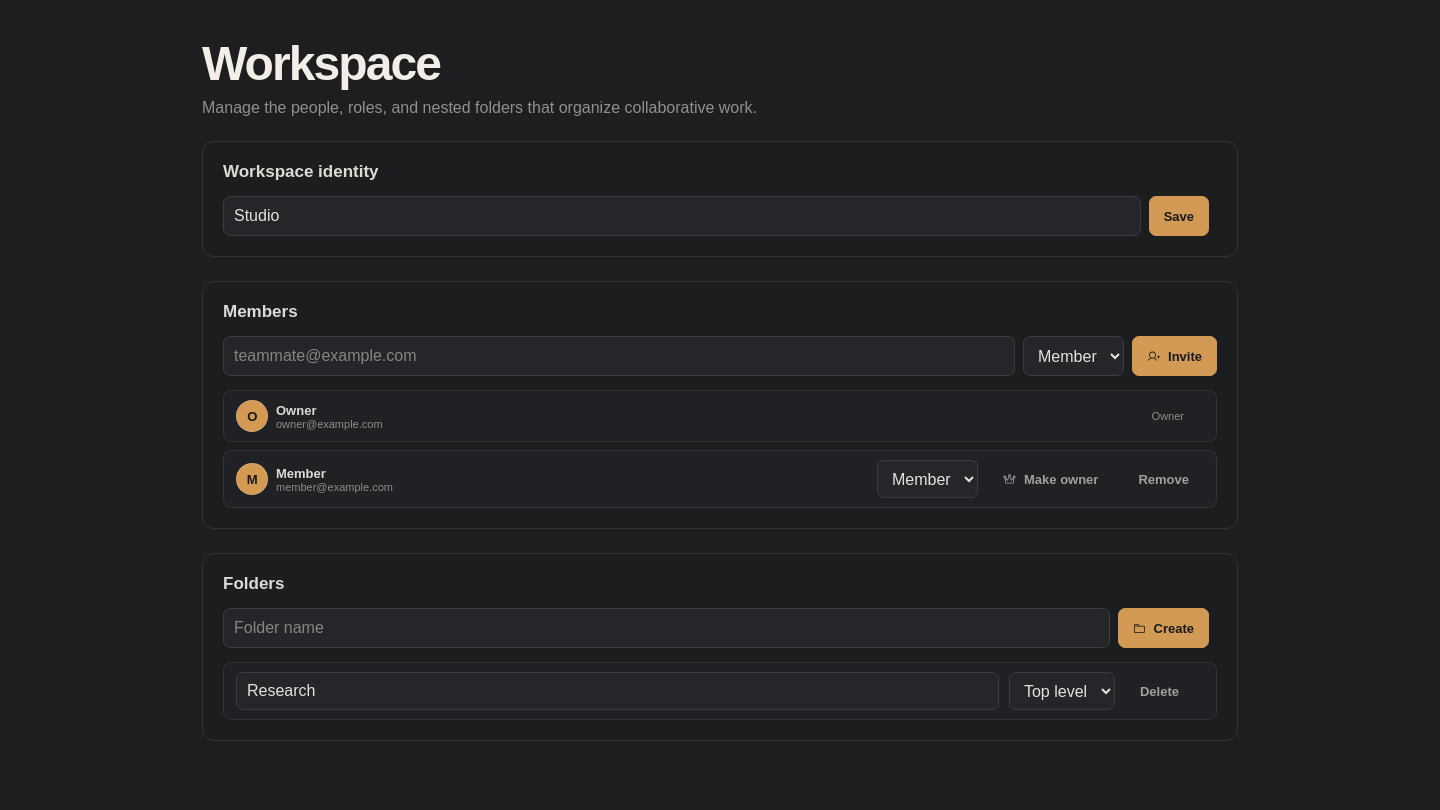
Test case: platform dashboard views › allows an ownership transfer confirmation to be cancelled
Check: the field showing "Studio" is shown, box [223,196,1141,236]
Step 1. Click the button "Make owner" → (1051, 479), box [988,459,1113,499]
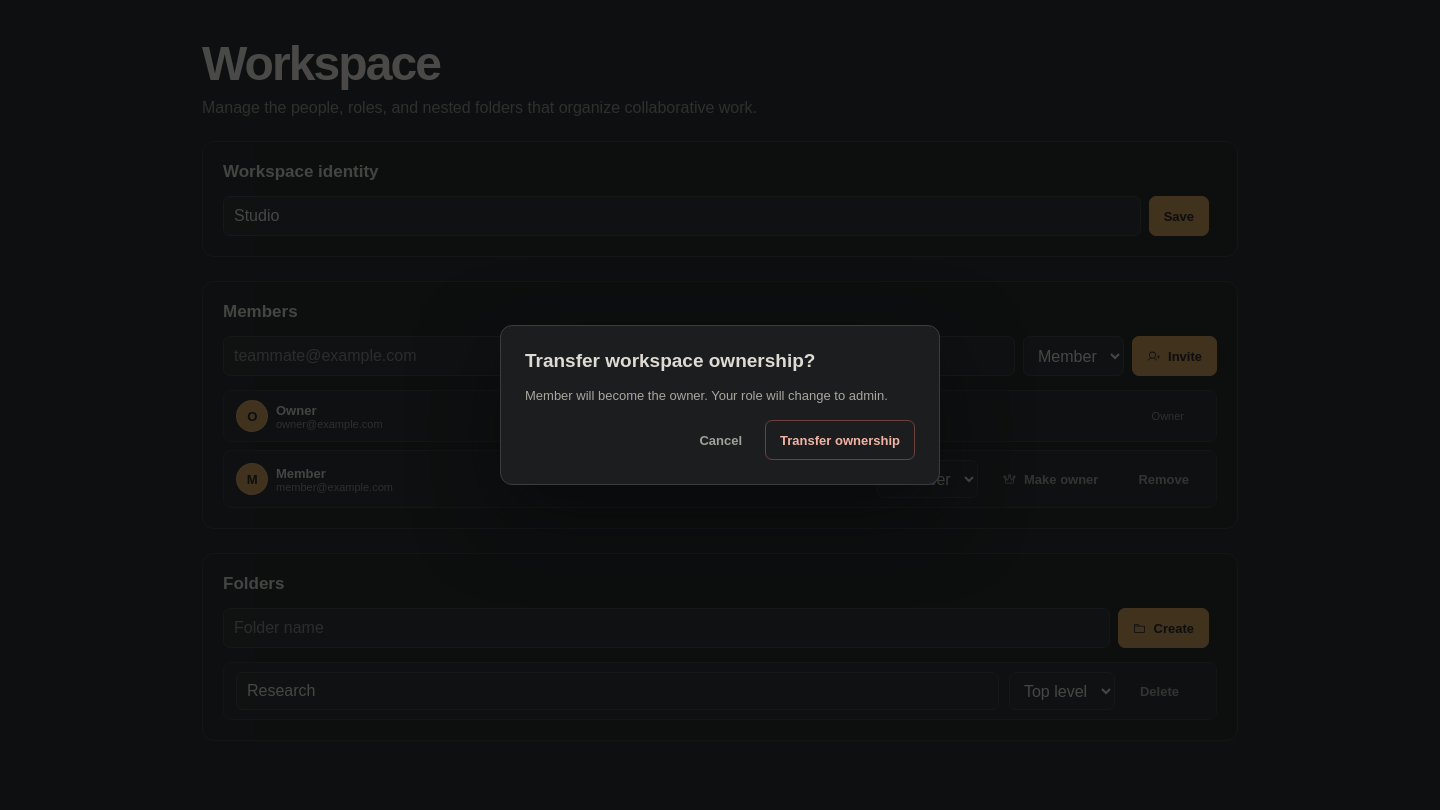
Step 2. Click the button "Cancel" → (721, 440), box [684,420,757,460]
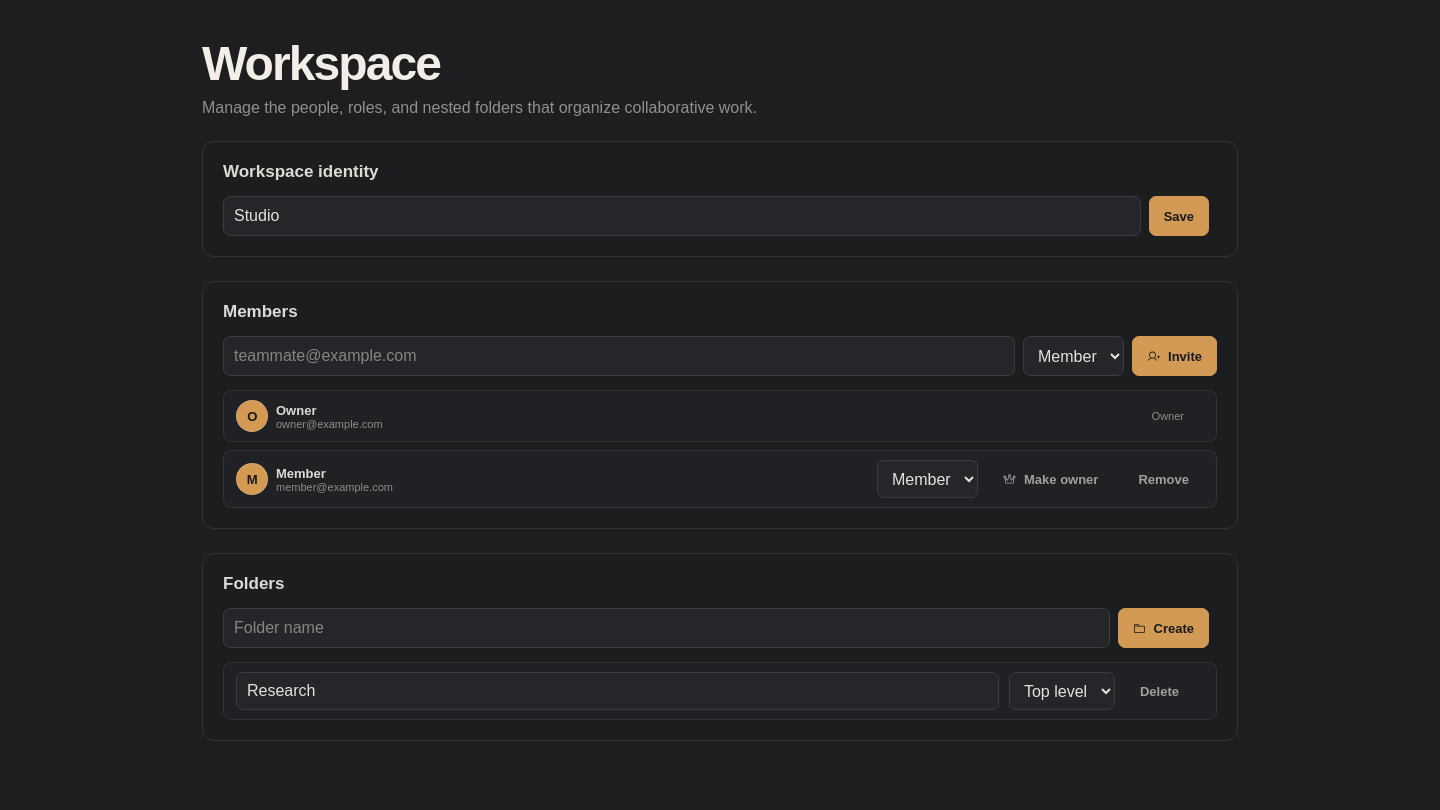
Check: the dialog is gone
